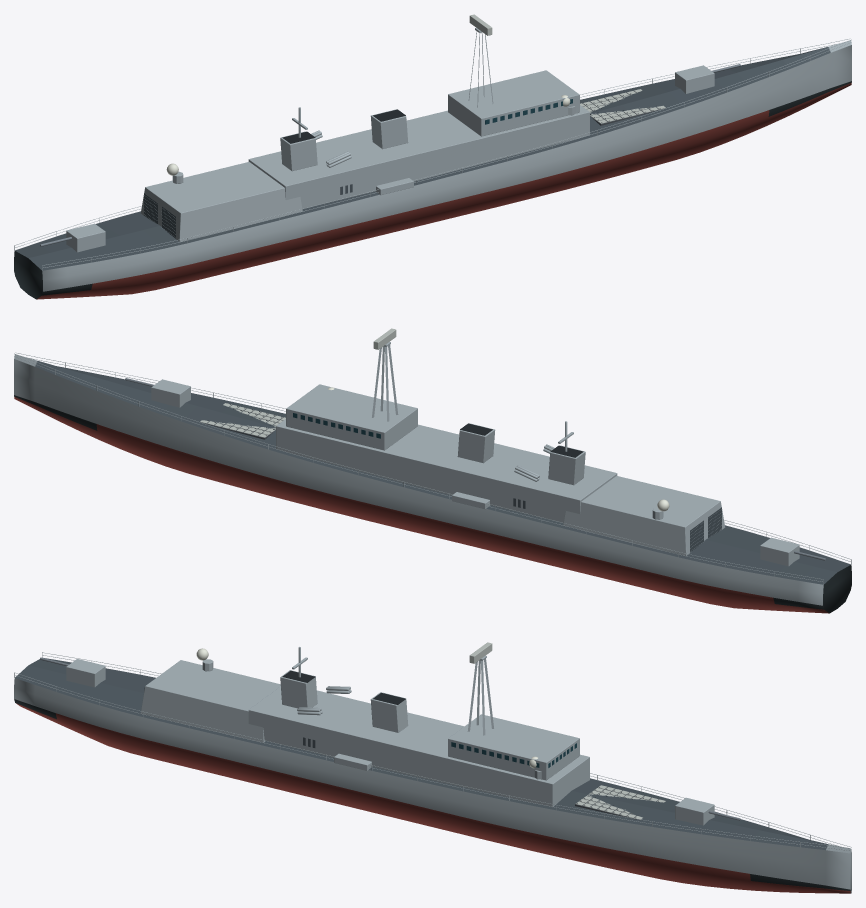
Rendered from cw90_spruance.glb.
3 views of the same model, one above another, from view 1: azimuth 30°, elevation 25°; view 2: azimuth 150°, elevation 25°; view 3: azimuth 330°, elevation 25° (orthographic).
Visible parts, largest first — view 1: cw90_spruance; view 2: cw90_spruance; view 3: cw90_spruance.
Boxes of the visible parts, <box> form: cw90_spruance: <box>14,14,851,299</box>; cw90_spruance: <box>14,328,851,613</box>; cw90_spruance: <box>14,642,851,893</box>.
Bounding box in the file's own units: 10 × 2.08 × 0.9824.
